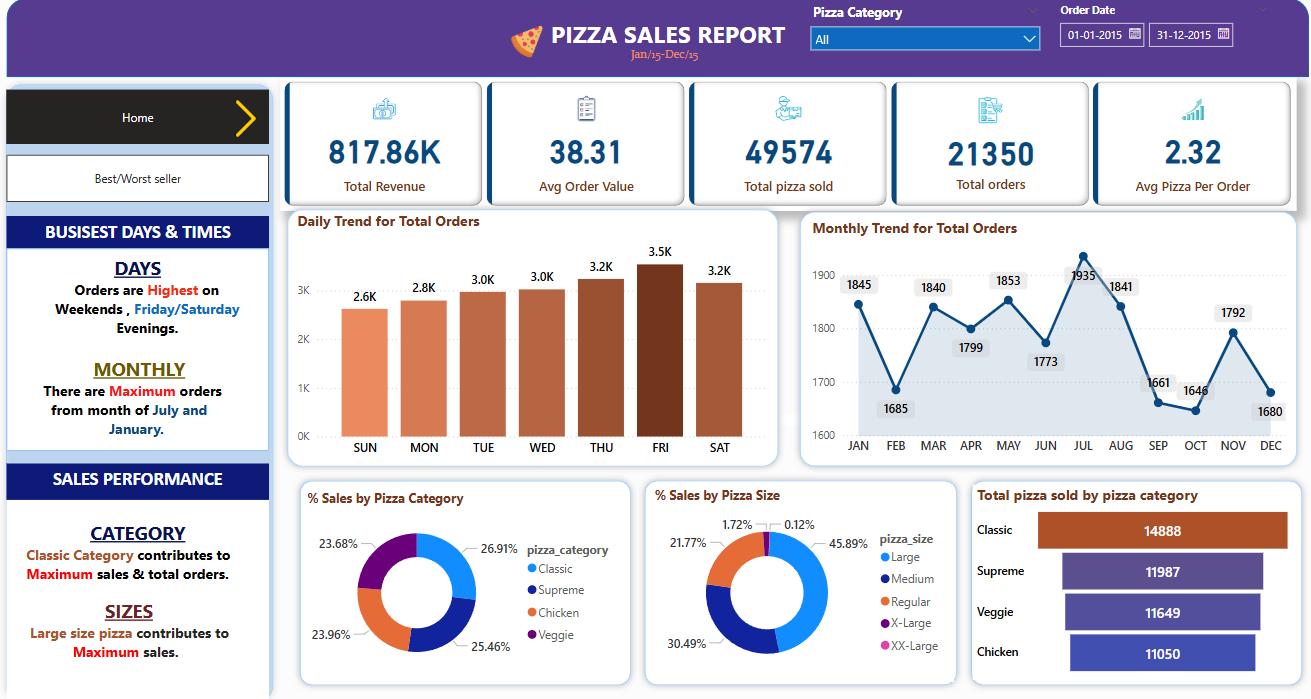

The page's visual inventory and layout, read from the dashboard file:
{"tool":"powerbi","page":{"name":"Home","canvas":[1500,820],"ordinal":0},"visuals":[{"type":"shape","box":[0,98.6,321.4,721.4],"z":0},{"type":"cardVisual","fields":{"Data":["public pizza_sales.Total Revenue","public pizza_sales.Avg Order Value","public pizza_sales.Total pizza sold","public pizza_sales.Total orders","public pizza_sales.Avg Pizza Per Order"]},"box":[321.4,98.6,1161.4,152.9],"z":1000},{"type":"shape","box":[8.6,8.6,1488.6,90],"z":2000},{"type":"textbox","box":[730,483.8,355,12.5],"z":3000},{"type":"textbox","box":[612.5,25,303.8,65],"z":4000},{"type":"textbox","box":[717.5,57.5,140,28.8],"z":5000},{"type":"image","box":[575,33.8,55,47.5],"z":6000},{"type":"shape","box":[321.4,241.4,577.1,310],"z":7000},{"type":"columnChart","title":"Daily Trend for Total Orders","fields":{"Y":["public pizza_sales.Total orders"],"Category":["public pizza_sales.Order Day"]},"box":[335.7,251.4,547.1,290],"z":8000},{"type":"shape","box":[907.1,244.3,584.3,307.1],"z":9000},{"type":"areaChart","title":"Monthly Trend for Total Orders","fields":{"Category":["public pizza_sales.Order Month"],"Y":["public pizza_sales.Total orders"]},"box":[924.3,258.6,551.4,281.4],"z":10000},{"type":"shape","box":[335.7,551.4,394.3,250],"z":11000},{"type":"shape","box":[1102.9,551.4,394.3,250],"z":12000},{"type":"shape","box":[730,551.4,372.9,250],"z":13000},{"type":"donutChart","title":"% Sales by Pizza Category","fields":{"Category":["public pizza_sales.pizza_category"],"Y":["public pizza_sales.Total Revenue"]},"box":[347.1,568.6,370,218.6],"z":14000},{"type":"donutChart","title":"% Sales by Pizza Size","fields":{"Y":["public pizza_sales.Total Revenue"],"Category":["public pizza_sales.pizza_size"]},"box":[744.3,565.7,347.1,224.3],"z":15000},{"type":"funnel","title":"Total pizza sold by pizza category","fields":{"Category":["public pizza_sales.pizza_category"],"Y":["public pizza_sales.Total pizza sold"]},"box":[1112.9,564.3,370,222.9],"z":16000},{"type":"textbox","box":[8.6,257.1,300,37.1],"z":17000},{"type":"textbox","box":[8.6,294.3,300,231.4],"z":18000},{"type":"textbox","box":[8.6,581.4,300,228.6],"z":19000},{"type":"textbox","box":[8.6,540,300,41.4],"z":20000},{"type":"slicer","title":"Pizza Category","fields":{"Values":["public pizza_sales.pizza_category"]},"box":[917.1,8.6,282.9,82.9],"z":21000},{"type":"slicer","fields":{"Values":["public pizza_sales.order_date"]},"box":[1200,8.6,261.4,87.1],"z":22000},{"type":"pageNavigator","box":[8.6,112.9,300,62.9],"z":23000},{"type":"pageNavigator","box":[8.6,187.1,300,54.3],"z":24000},{"type":"image","box":[255,118.3,53.3,55],"z":24001}]}

Visuals, with their boxes in screenshot pixels (x1, y1, x2, y2), scaled from the page's 1500x820 canvas onto the 1311x699 screenshot:
shape: (0, 84, 281, 698)
cardVisual - public pizza_sales.Total Revenue x public pizza_sales.Avg Order Value: (281, 84, 1296, 214)
shape: (8, 7, 1309, 84)
textbox: (638, 412, 948, 423)
textbox: (535, 21, 801, 77)
textbox: (627, 49, 749, 74)
image: (503, 29, 551, 69)
shape: (281, 206, 785, 470)
"Daily Trend for Total Orders" columnChart: (293, 214, 772, 462)
shape: (793, 208, 1303, 470)
"Monthly Trend for Total Orders" areaChart: (808, 220, 1290, 460)
shape: (293, 470, 638, 683)
shape: (964, 470, 1309, 683)
shape: (638, 470, 964, 683)
"% Sales by Pizza Category" donutChart: (303, 485, 627, 671)
"% Sales by Pizza Size" donutChart: (651, 482, 954, 673)
"Total pizza sold by pizza category" funnel: (973, 481, 1296, 671)
textbox: (8, 219, 270, 251)
textbox: (8, 251, 270, 448)
textbox: (8, 496, 270, 690)
textbox: (8, 460, 270, 496)
"Pizza Category" slicer: (802, 7, 1049, 78)
slicer - public pizza_sales.order_date: (1049, 7, 1277, 82)
pageNavigator: (8, 96, 270, 150)
pageNavigator: (8, 159, 270, 206)
image: (223, 101, 269, 148)
